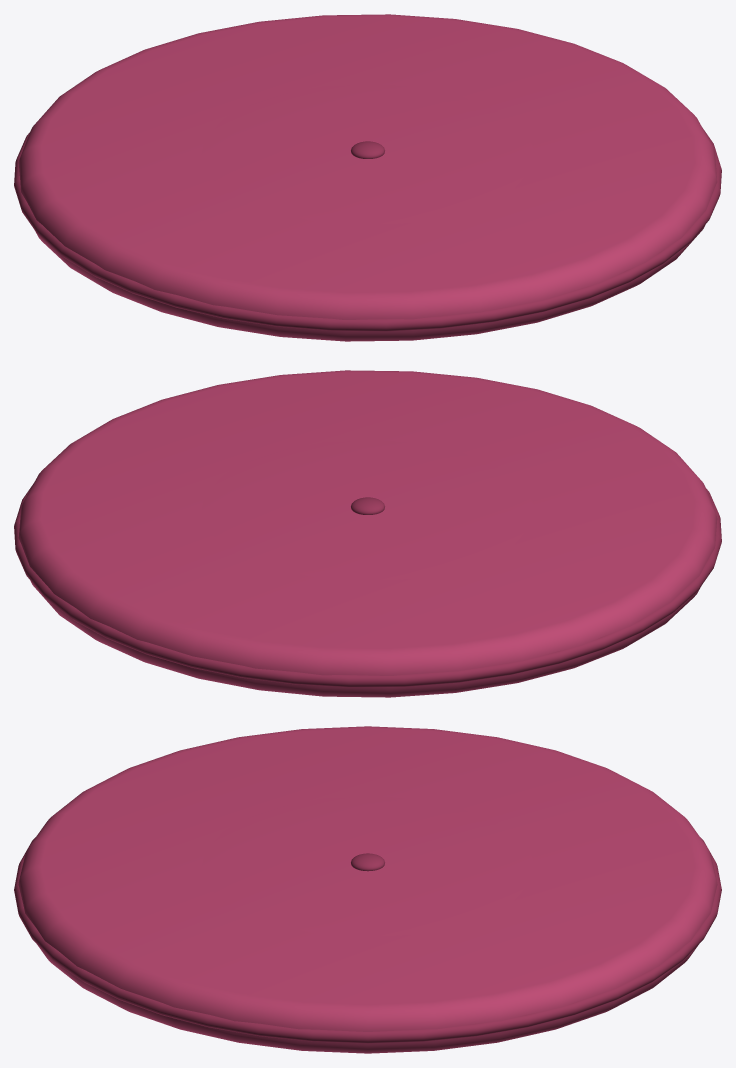
The model's file is floor_cushion.glb.
3 views of the same model, one above another, from view 1: azimuth 30°, elevation 25°; view 2: azimuth 150°, elevation 25°; view 3: azimuth 270°, elevation 25° (orthographic).
Visible parts, largest first — view 1: floor_cushion_body, floor_cushion_dome, floor_cushion_piping; view 2: floor_cushion_body, floor_cushion_dome, floor_cushion_piping; view 3: floor_cushion_body, floor_cushion_dome, floor_cushion_piping.
Boxes of the visible parts, box(x1,y1,x2,y2) form: floor_cushion_body: box(18, 14, 717, 341); floor_cushion_dome: box(201, 84, 534, 224); floor_cushion_piping: box(14, 127, 721, 331); floor_cushion_body: box(18, 370, 717, 697); floor_cushion_dome: box(201, 440, 534, 580); floor_cushion_piping: box(14, 483, 721, 687); floor_cushion_body: box(18, 726, 717, 1053); floor_cushion_dome: box(201, 796, 534, 936); floor_cushion_piping: box(14, 837, 721, 1043).
Size of the model in its own units: 1.23 by 0.109 by 1.23.
